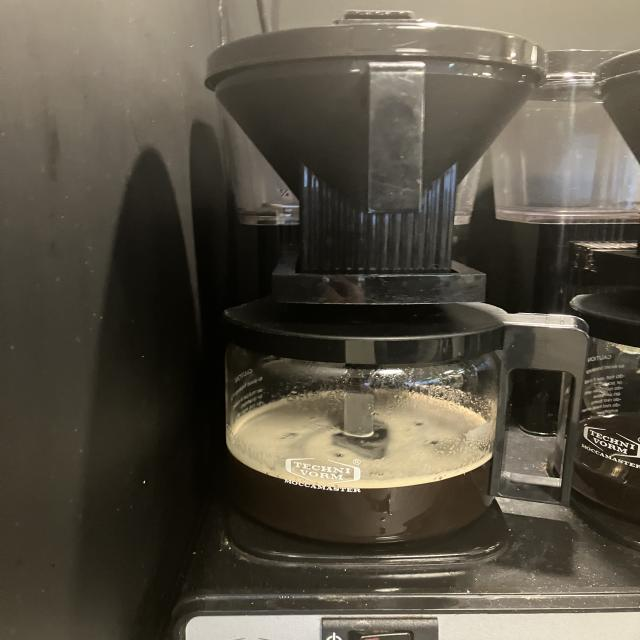coffee: (190, 301, 514, 547), (565, 294, 640, 561)
